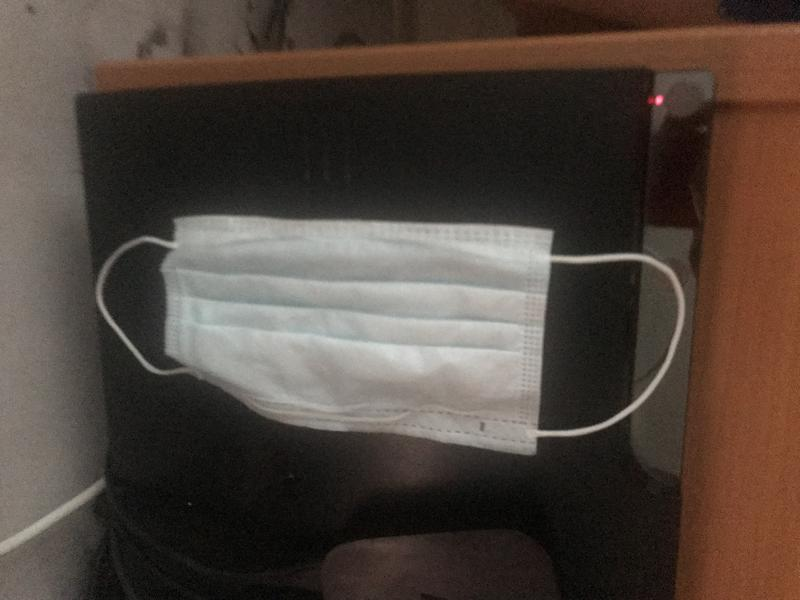medical_mask: (97, 214, 687, 459)
